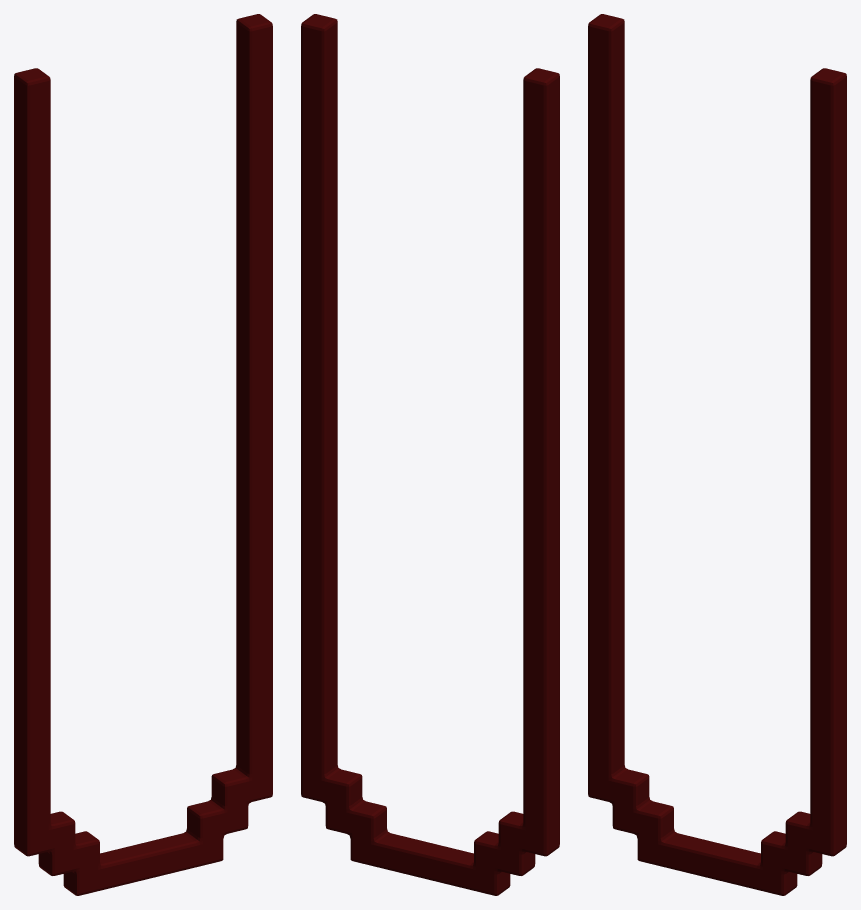
Rendered from Rope.glb.
The picture shows the model from 3 angles, left to right: view 1: azimuth 30°, elevation 25°; view 2: azimuth 150°, elevation 25°; view 3: azimuth 330°, elevation 25°; orthographic projection.
Parts seen in each view (by area): view 1: __playground; view 2: __playground; view 3: __playground.
Boxes of the visible parts, bbox=[...] form: __playground: bbox=[14, 14, 272, 895]; __playground: bbox=[301, 14, 559, 895]; __playground: bbox=[588, 14, 846, 895].
Bounding box in the file's own units: 0.32 × 1.02 × 0.032.
